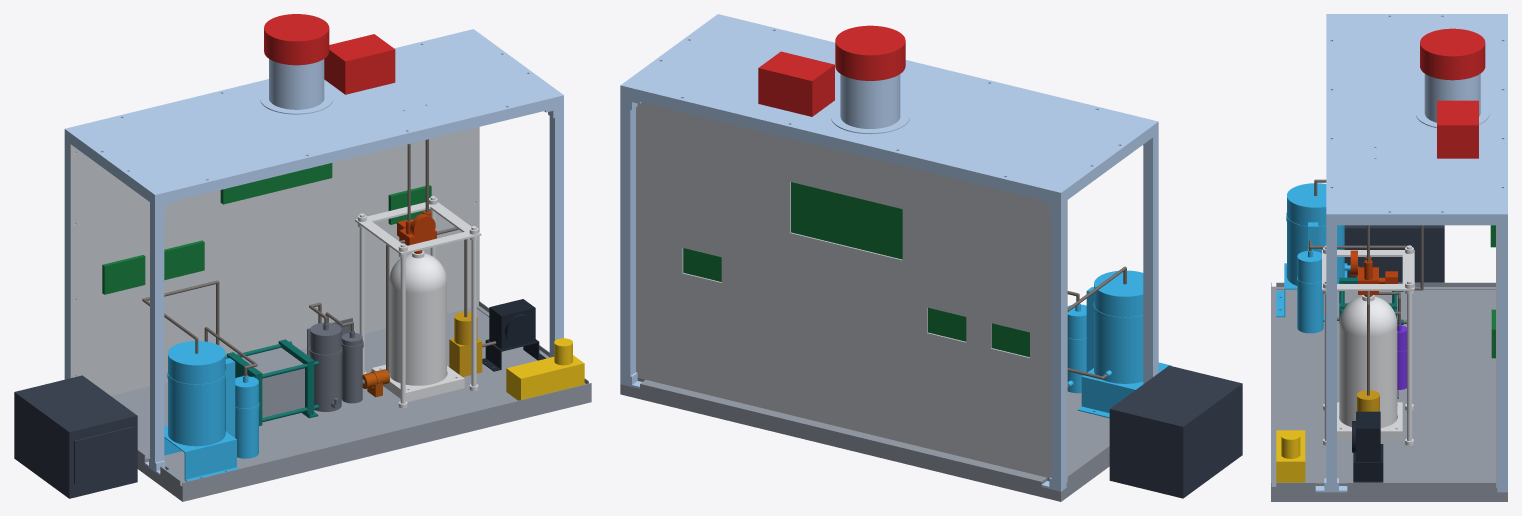
3 renders of one model, left to right at view 1: azimuth 30°, elevation 25°; view 2: azimuth 150°, elevation 25°; view 3: azimuth 270°, elevation 25°, orthographic. The views are drawn at different scales.
Visible parts, largest first — view 1: Instrument back panel, Canopy hood, duct and posts, Bench deck and extrusion frame, Hydrogen buffer tank, 2 L, with guard, Bench DC power supply, 0 to 30 V, 10 A, DI water reservoir and deionizer, H2Guard sensor, controller and fan, Meters, logger and display, Gas and water separator, drier, Gas lines, 6 mm, Electronic load and lamp, PEM fuel cell, 12 W class (+4 smaller); view 2: Instrument back panel, Canopy hood, duct and posts, Bench DC power supply, 0 to 30 V, 10 A, Bench deck and extrusion frame, DI water reservoir and deionizer, Meters, logger and display, H2Guard sensor, controller and fan; view 3: Canopy hood, duct and posts, Bench deck and extrusion frame, Hydrogen buffer tank, 2 L, with guard, DI water reservoir and deionizer, H2Guard sensor, controller and fan, Bench DC power supply, 0 to 30 V, 10 A, PEM fuel cell, 12 W class, Electronic load and lamp, Gas lines, 6 mm, Tank manifold: sensors, relief, gauge, Catalytic deoxidizer, Instrument back panel (+3 smaller).
Part boxes in pixels (x1,y1,x2,y2): Instrument back panel: (70,127,479,395); Canopy hood, duct and posts: (64,29,563,475); Bench deck and extrusion frame: (111,301,591,501); Hydrogen buffer tank, 2 L, with guard: (355,196,481,408); Bench DC power supply, 0 to 30 V, 10 A: (14,375,137,498); DI water reservoir and deionizer: (149,341,259,481); H2Guard sensor, controller and fan: (264,14,395,94); Meters, logger and display: (102,163,431,294); Gas and water separator, drier: (307,318,364,411); Gas lines, 6 mm: (142,139,496,376); Electronic load and lamp: (506,338,584,400); PEM fuel cell, 12 W class: (482,299,545,371); Instrument back panel: (636,102,1067,481); Canopy hood, duct and posts: (620,14,1158,491); Bench DC power supply, 0 to 30 V, 10 A: (1109,365,1242,498); Bench deck and extrusion frame: (620,378,1109,501); DI water reservoir and deionizer: (1067,270,1171,418); Meters, logger and display: (683,182,1029,357); H2Guard sensor, controller and fan: (758,25,905,116); Canopy hood, duct and posts: (1315,14,1507,492); Bench deck and extrusion frame: (1271,282,1507,501); Hydrogen buffer tank, 2 L, with guard: (1322,245,1414,445); DI water reservoir and deionizer: (1276,183,1350,333); H2Guard sensor, controller and fan: (1420,28,1485,158); Bench DC power supply, 0 to 30 V, 10 A: (1344,225,1444,282); PEM fuel cell, 12 W class: (1352,411,1383,482); Electronic load and lamp: (1276,430,1305,482); Gas lines, 6 mm: (1309,179,1423,395); Tank manifold: sensors, relief, gauge: (1350,250,1397,296); Catalytic deoxidizer: (1397,321,1406,389); Instrument back panel: (1496,225,1497,487).
Bounding box in the file's own units: 1.08 × 0.753 × 0.45.
